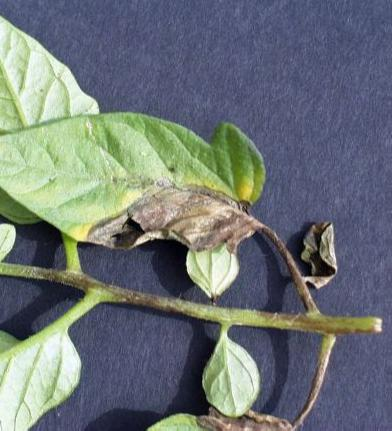Tomato leaf late blight: (0, 113, 278, 271)
